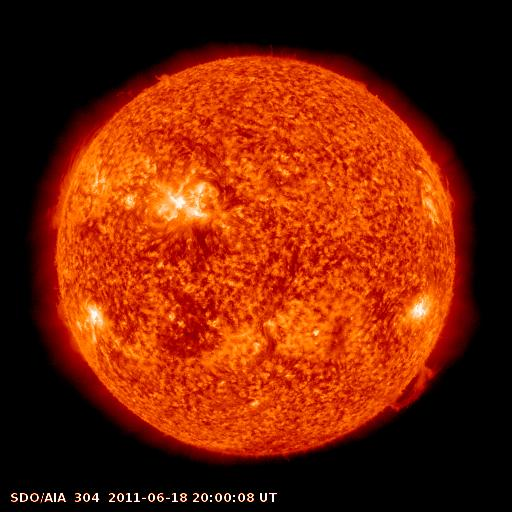prominence: (33, 140, 90, 229), (387, 353, 437, 416), (426, 156, 463, 208), (48, 286, 75, 331)
